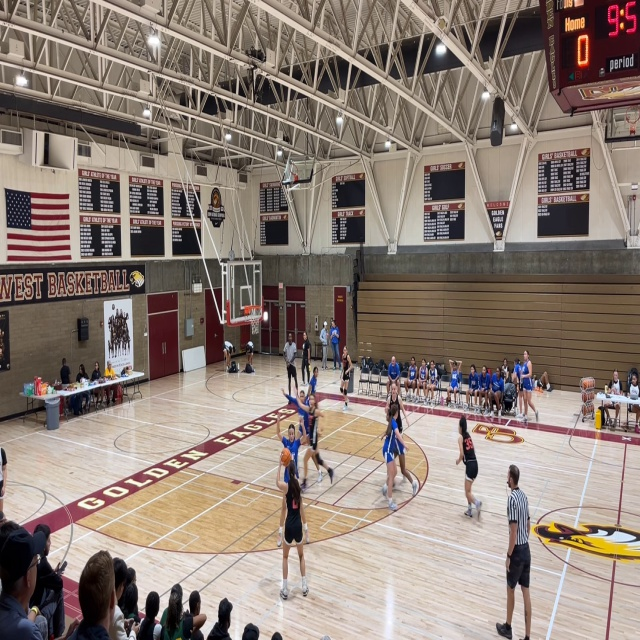Basketball: (279, 448, 291, 465)
